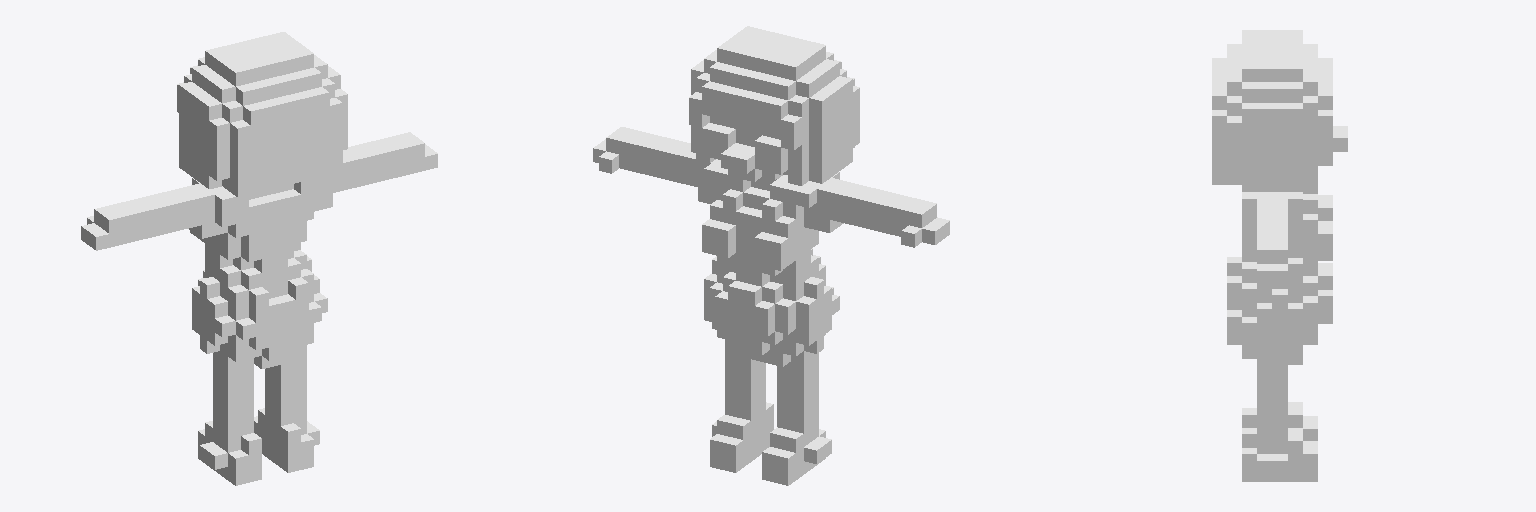
The model's file is grani.obj.
3 renders of one model, left to right at view 1: azimuth 30°, elevation 25°; view 2: azimuth 150°, elevation 25°; view 3: azimuth 270°, elevation 25°, orthographic.
Parts seen in each view (by area): view 1: object 1; view 2: object 1; view 3: object 1.
Part boxes in pixels (x1,y1,x2,y2): object 1: (81, 32, 437, 485); object 1: (593, 26, 949, 485); object 1: (1212, 30, 1347, 481).
Size of the model in its own units: 2.6 by 3 by 0.9.